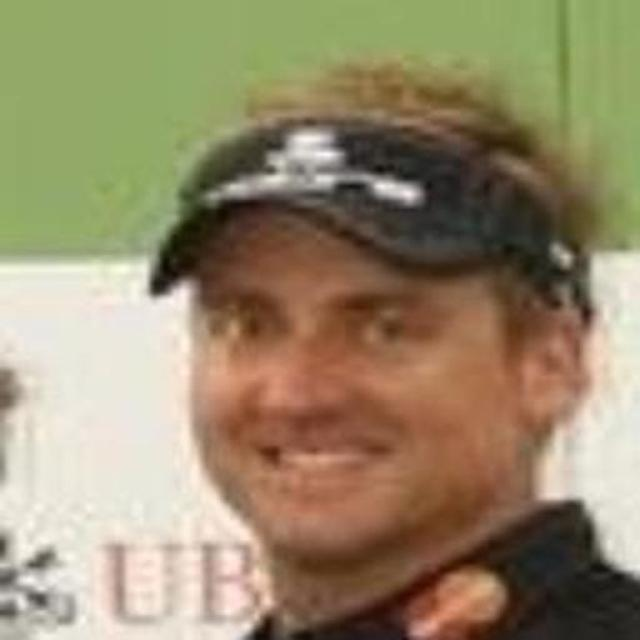bareface: (146, 129, 566, 544)
